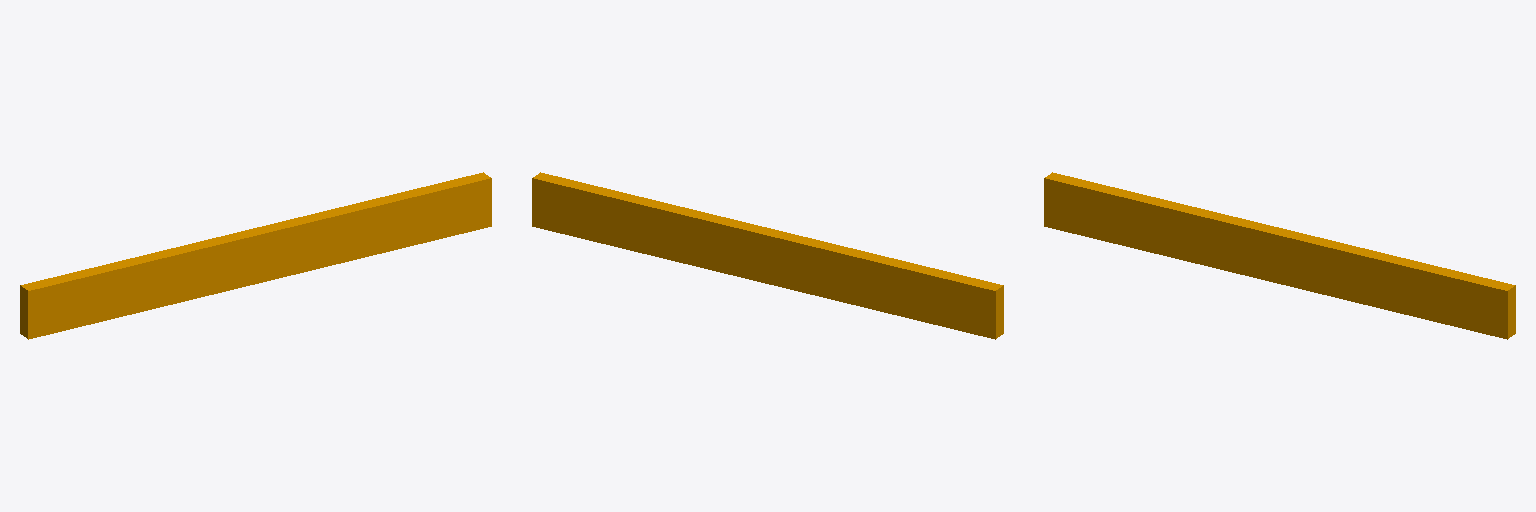
The robot description file, URDF, robot "simple_box":
<robot name="simple_box">
  <link name="my_box">
    <inertial>
      <origin xyz="0 0 0" />
      <mass value="1.0" />
      <inertia  ixx="1.0" ixy="0.0"  ixz="0.0"  iyy="100.0"  iyz="0.0"  izz="1.0" />
    </inertial>
    <visual>
      <origin xyz="0 0 0"/>
      <geometry>
        <box size="10 0.3 1.0" />
      </geometry>
    </visual>
    <collision>
      <origin xyz="0 0 0"/>
      <geometry>
        <box size="10 0.3 1.0" />
      </geometry>
    </collision>
  </link>
  <gazebo reference="my_box">
    <material>Gazebo/Grey</material>
  </gazebo>
</robot>

--- Render facts (derived) ---
3 views of the same robot in one strip: view 1: azimuth 30°, elevation 25°; view 2: azimuth 150°, elevation 25°; view 3: azimuth 330°, elevation 25° (orthographic).
Model simple_box with 1 links and 0 joints (none), rooted at my_box, posed all joints at 0.
Visible links, largest first — view 1: my_box; view 2: my_box; view 3: my_box.
Boxes of the visible links, x1,y1,x2,y2 form: my_box: [20, 172, 491, 339]; my_box: [532, 172, 1003, 339]; my_box: [1044, 172, 1515, 339].
Size in the robot's own frame: 10 by 0.3 by 1 metres.
Geometry: primitives only (box / cylinder / sphere), no mesh files.
